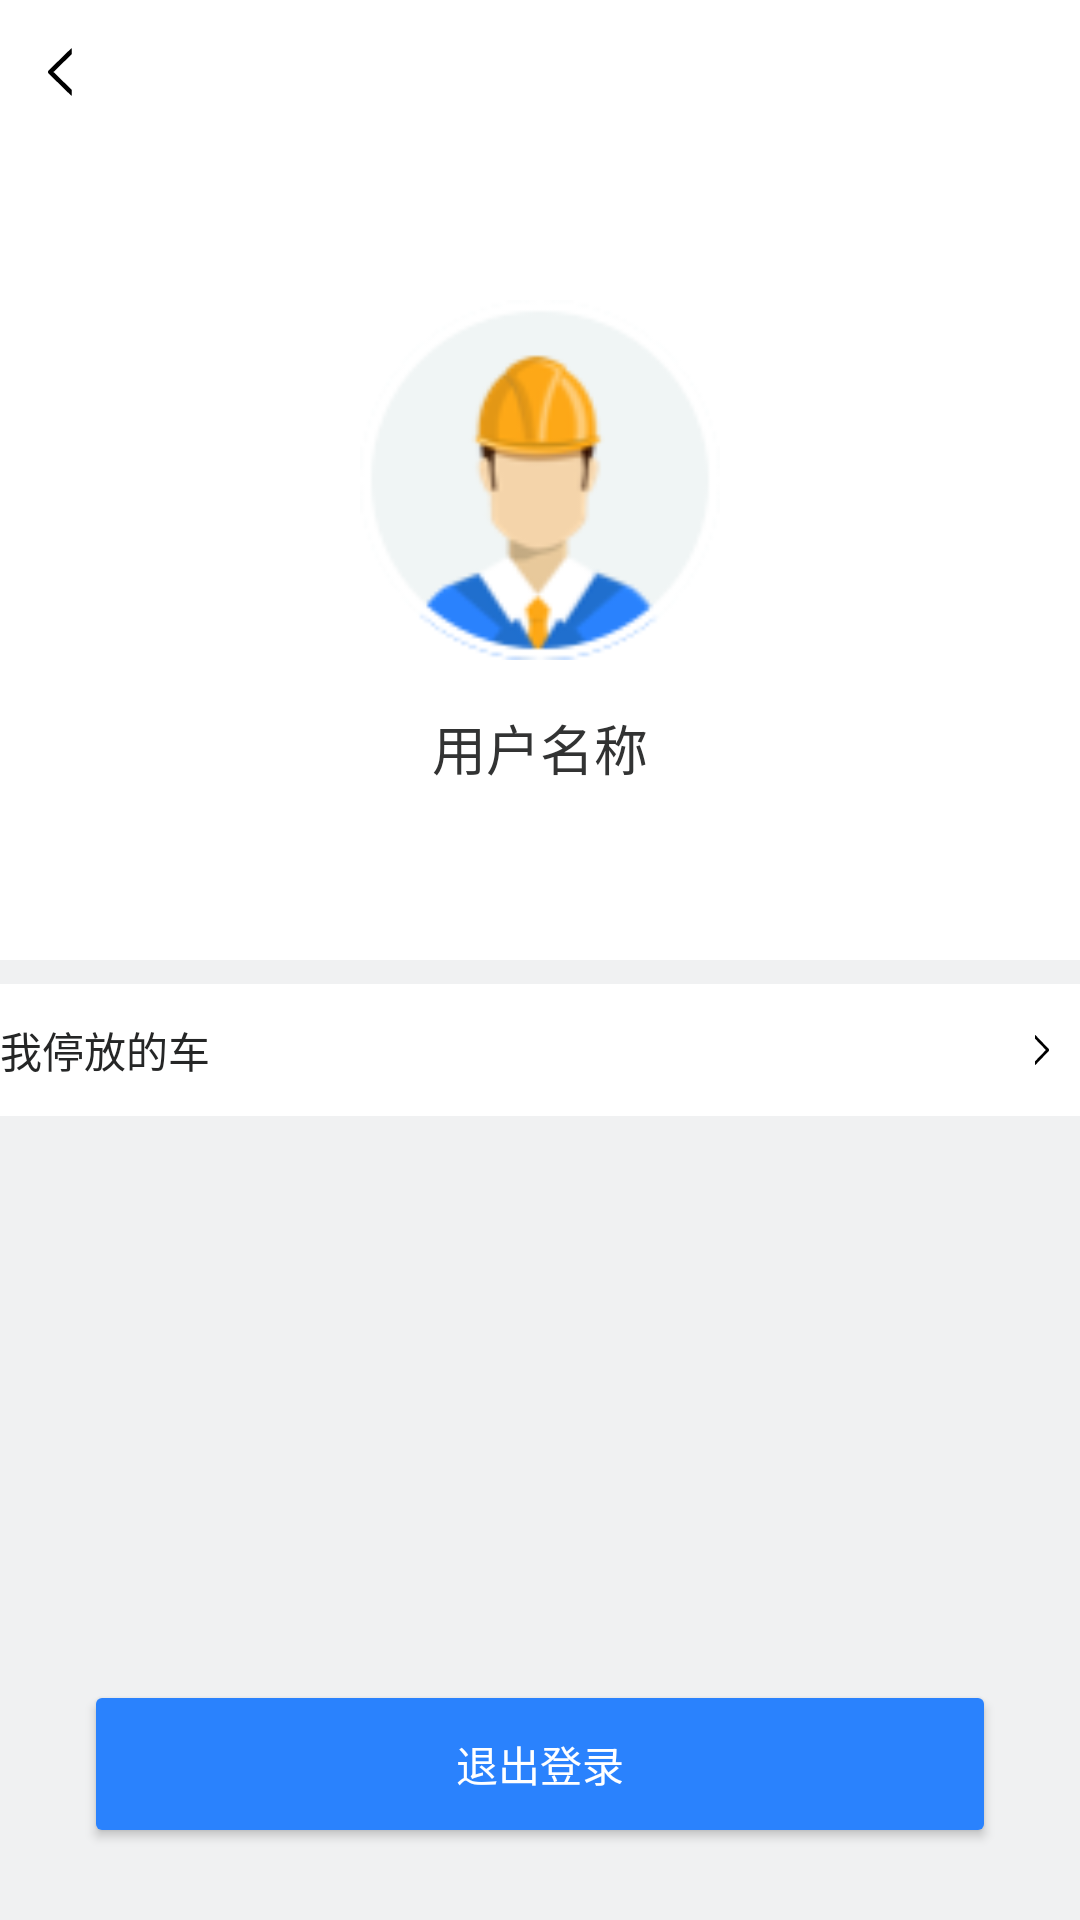

Where icons sit on this 1080px×1920px app screen, as (x1, y1, x2, y2):
back: (48, 48, 72, 96)
head: (371, 311, 709, 660)
